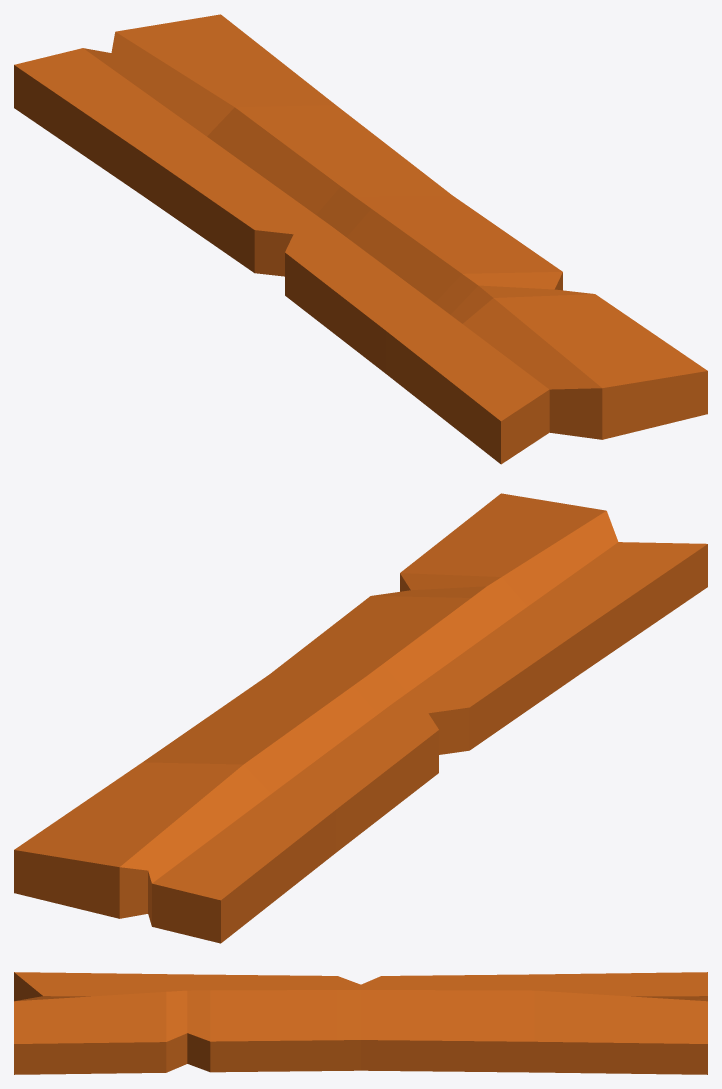
The model's file is WoodenPlank.fbx.
3 renders of one model, top to bottom at view 1: azimuth 30°, elevation 25°; view 2: azimuth 150°, elevation 25°; view 3: azimuth 270°, elevation 25°, orthographic. The views are drawn at different scales.
Visible parts, largest first — view 1: Cube; view 2: Cube; view 3: Cube.
Part boxes in pixels (x1,y1,x2,y2): Cube: (14,14,707,464); Cube: (14,493,707,943); Cube: (14,972,707,1074).
Size of the model in its own units: 175 by 53.24 by 715.
